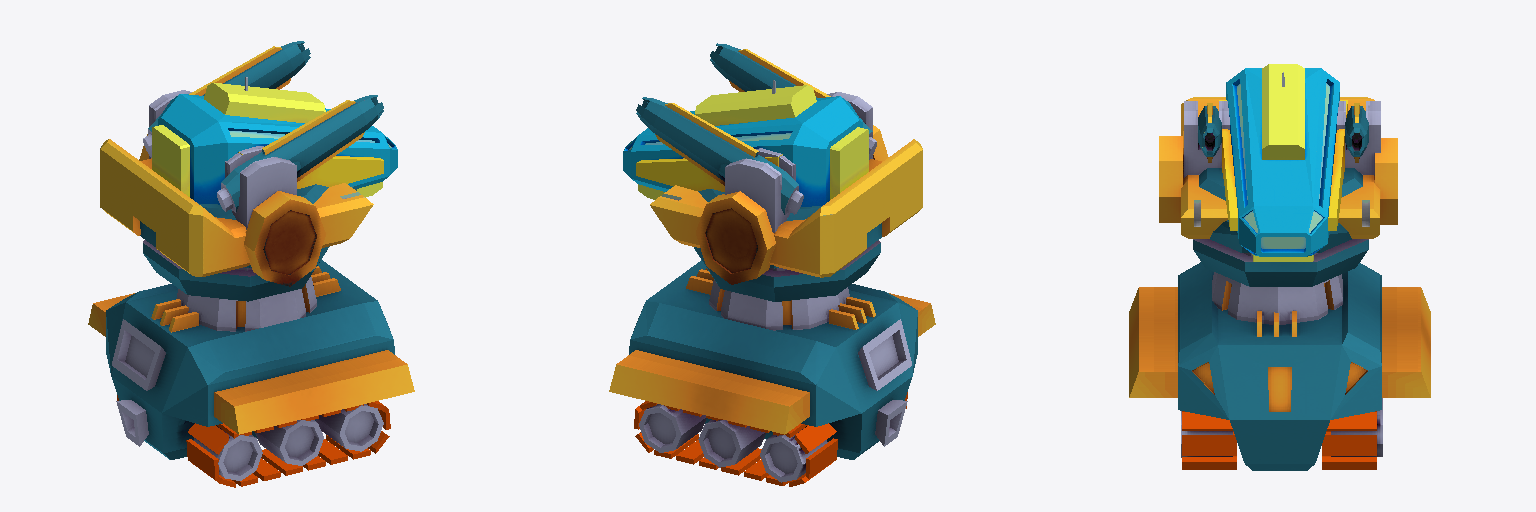
The picture shows the model from 3 angles: view 1: azimuth 30°, elevation 25°; view 2: azimuth 150°, elevation 25°; view 3: azimuth 270°, elevation 25°; orthographic projection.
Visible parts, largest first — view 1: Object008, Object014, Box009, Box017; view 2: Object008, Object014, Box009, Box016; view 3: Object008, Box017, Box016, Object014, Box009.
Boxes of the visible parts, box(x1,y1,x2,y2) form: Object008: box(88, 83, 414, 459); Object014: box(143, 41, 383, 212); Box009: box(193, 404, 383, 480); Box017: box(186, 401, 390, 487); Object008: box(609, 85, 935, 459); Object014: box(636, 43, 876, 214); Box009: box(639, 404, 827, 482); Box016: box(634, 401, 837, 486); Object008: box(1129, 64, 1430, 470); Box017: box(1182, 411, 1236, 469); Box016: box(1322, 411, 1376, 469); Object014: box(1198, 103, 1368, 162); Box009: box(1181, 398, 1382, 457).
Size of the model in its own units: 65.77 by 86.78 by 66.14.
4 materials, 2 textured.